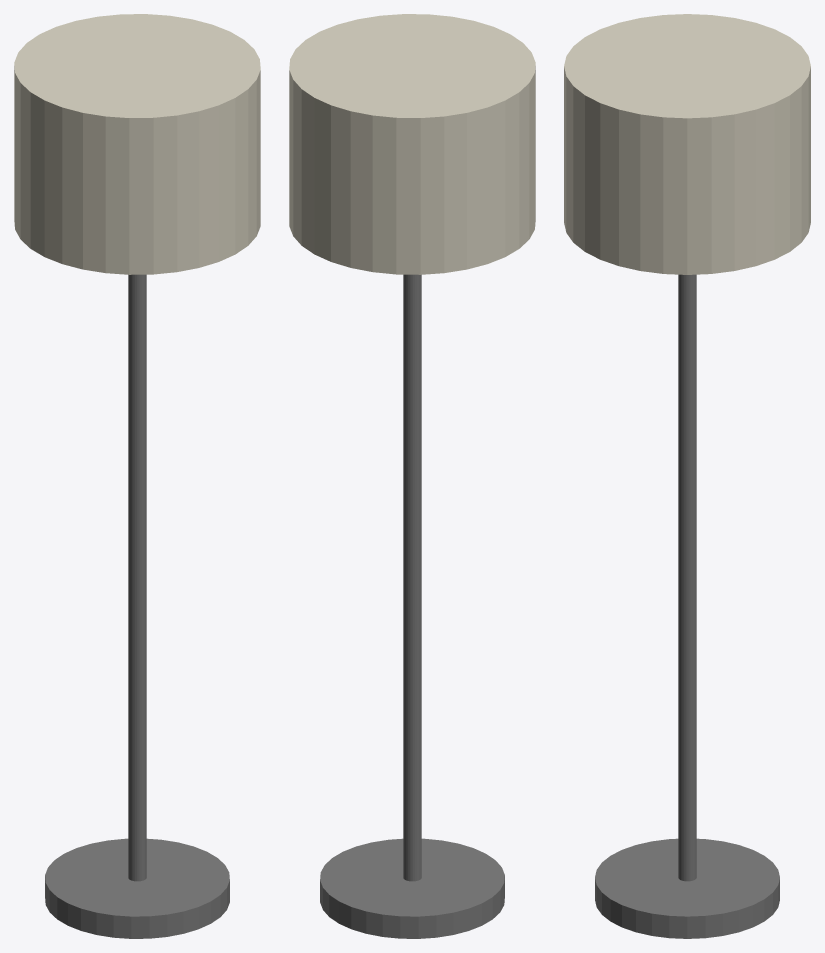
The model's file is lamp.glb.
3 renders of one model, left to right at view 1: azimuth 30°, elevation 25°; view 2: azimuth 150°, elevation 25°; view 3: azimuth 270°, elevation 25°, orthographic.
Parts seen in each view (by area): view 1: shade, base, pole; view 2: shade, base, pole; view 3: shade, base, pole.
Boxes of the visible parts, <box> form: shade: <box>14,14,260,274</box>; base: <box>45,838,229,938</box>; pole: <box>128,274,146,881</box>; shade: <box>289,14,535,274</box>; base: <box>320,838,504,938</box>; pole: <box>403,274,421,881</box>; shade: <box>564,14,810,274</box>; base: <box>595,838,779,938</box>; pole: <box>678,274,696,881</box>.
Size of the model in its own units: 0.4 by 1.49 by 0.4.
